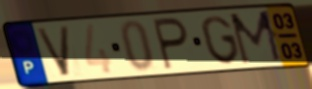0: (119, 18, 159, 74)
4: (82, 22, 115, 75)
G: (199, 14, 243, 66)
M: (227, 8, 286, 67)
P: (151, 15, 191, 72)
V: (33, 25, 72, 79)
